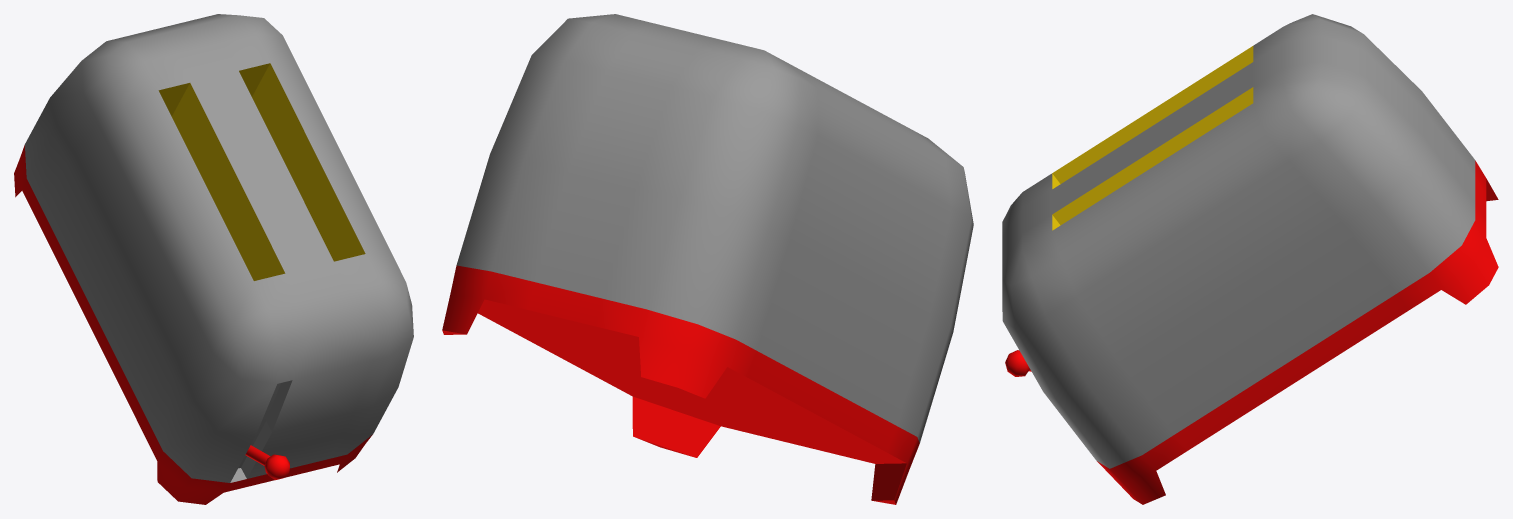
File: Toaster_anime.FBX
3 views of the same model, side by side, from view 1: azimuth 30°, elevation 25°; view 2: azimuth 150°, elevation 25°; view 3: azimuth 270°, elevation 25° (orthographic). The views are drawn at different scales.
Parts seen in each view (by area): view 1: ChamferBox006; view 2: ChamferBox006; view 3: ChamferBox006.
Boxes of the visible parts, bbox=[...] form: ChamferBox006: bbox=[14, 14, 413, 504]; ChamferBox006: bbox=[442, 14, 973, 504]; ChamferBox006: bbox=[1002, 14, 1498, 504].
Size of the model in its own units: 13.07 by 23.66 by 25.54.
